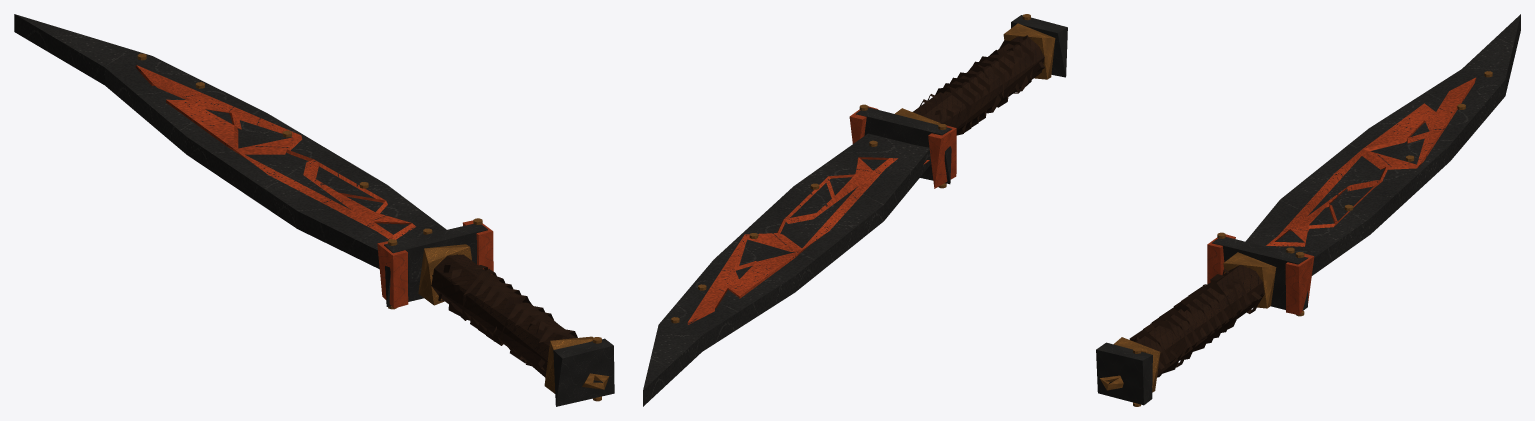
File: kiln-sword-damaged-lod2.glb
3 renders of one model, left to right at view 1: azimuth 30°, elevation 25°; view 2: azimuth 150°, elevation 25°; view 3: azimuth 330°, elevation 25°, orthographic. The views are drawn at different scales.
Parts seen in each view (by area): view 1: Forged wedge blade, Vented fired ceramic blade jacket, Grip core, Pommel iron cap, Guard iron block, Ceramic guard cheek, Brass grip ferrule.001, Ceramic guard cheek.001, Brass grip ferrule; view 2: Forged wedge blade, Vented fired ceramic blade jacket, Grip core, Guard iron block, Ceramic guard cheek, Pommel iron cap, Brass grip ferrule, Ceramic guard cheek.001; view 3: Forged wedge blade, Vented fired ceramic blade jacket, Grip core, Pommel iron cap, Guard iron block, Ceramic guard cheek.001, Brass grip ferrule.001, Ceramic guard cheek, Brass grip ferrule.
Part boxes in pixels (left/top/right/bottom): Forged wedge blade: left=14, top=14, right=446, bottom=283; Vented fired ceramic blade jacket: left=135, top=65, right=415, bottom=239; Grip core: left=431, top=254, right=576, bottom=374; Pommel iron cap: left=553, top=338, right=614, bottom=406; Guard iron block: left=384, top=223, right=487, bottom=306; Ceramic guard cheek: left=377, top=241, right=408, bottom=308; Brass grip ferrule.001: left=418, top=244, right=471, bottom=305; Ceramic guard cheek.001: left=462, top=220, right=493, bottom=274; Brass grip ferrule: left=544, top=336, right=593, bottom=393; Forged wedge blade: left=643, top=133, right=931, bottom=406; Vented fired ceramic blade jacket: left=687, top=157, right=929, bottom=324; Grip core: left=912, top=36, right=1044, bottom=134; Guard iron block: left=856, top=107, right=951, bottom=184; Ceramic guard cheek: left=928, top=125, right=956, bottom=188; Pommel iron cap: left=1011, top=15, right=1067, bottom=77; Brass grip ferrule: left=1003, top=23, right=1055, bottom=79; Ceramic guard cheek.001: left=849, top=106, right=878, bottom=143; Forged wedge blade: left=1245, top=14, right=1520, bottom=275; Vented fired ceramic blade jacket: left=1266, top=77, right=1476, bottom=246; Grip core: left=1133, top=265, right=1264, bottom=376; Pommel iron cap: left=1096, top=342, right=1152, bottom=405; Guard iron block: left=1212, top=237, right=1307, bottom=310; Ceramic guard cheek.001: left=1285, top=253, right=1314, bottom=315; Brass grip ferrule.001: left=1223, top=252, right=1276, bottom=308; Ceramic guard cheek: left=1207, top=234, right=1235, bottom=283; Brass grip ferrule: left=1113, top=337, right=1160, bottom=392.
Bounding box in the file's own units: 0.173 × 0.092 × 1.31.
4 materials, 4 textured.
